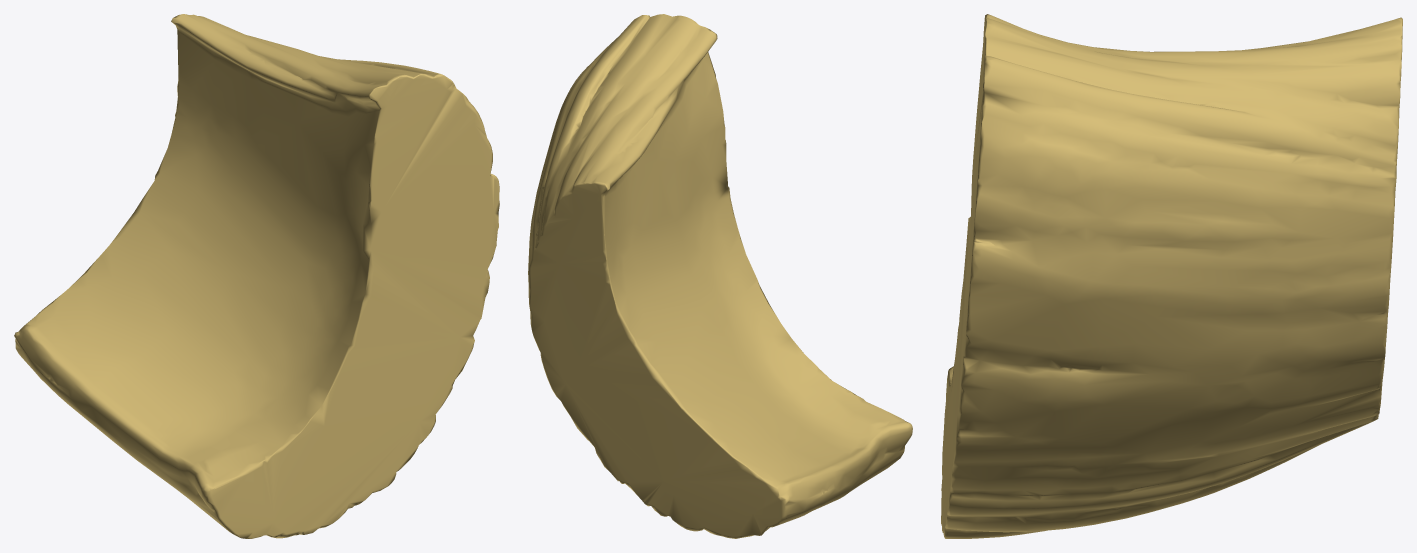
The picture shows the model from 3 angles, left to right: view 1: azimuth 30°, elevation 25°; view 2: azimuth 150°, elevation 25°; view 3: azimuth 270°, elevation 25°; orthographic projection. The views are drawn at different scales.
Parts seen in each view (by area): view 1: 左侧大脑脚底; view 2: 左侧大脑脚底; view 3: 左侧大脑脚底.
Part boxes in pixels (<box>): 左侧大脑脚底: <box>14,14,499,538</box>; 左侧大脑脚底: <box>528,14,912,538</box>; 左侧大脑脚底: <box>941,14,1402,538</box>.
Size of the model in its own units: 0.0277 by 0.0328 by 0.0239.
